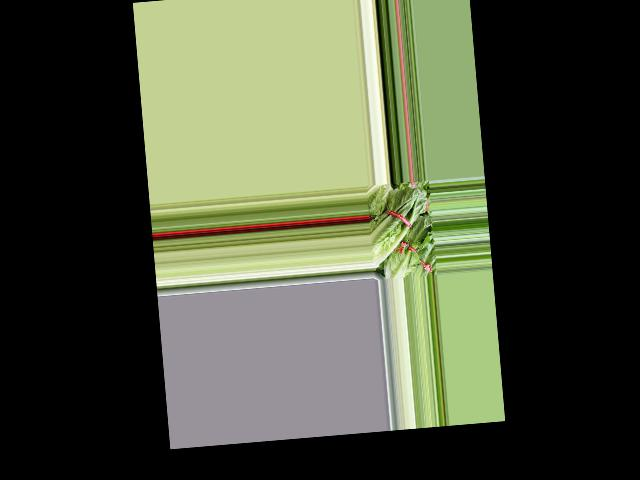lettuce: (365, 184, 433, 267)
